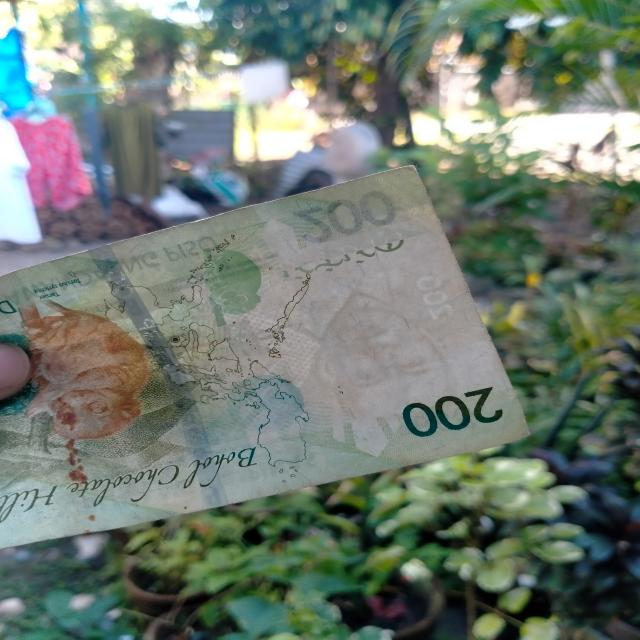security_thread: (90, 246, 235, 506)
see_through_mark: (273, 235, 408, 285)
value_watermark: (408, 267, 460, 326)
watermark: (283, 245, 460, 423)
